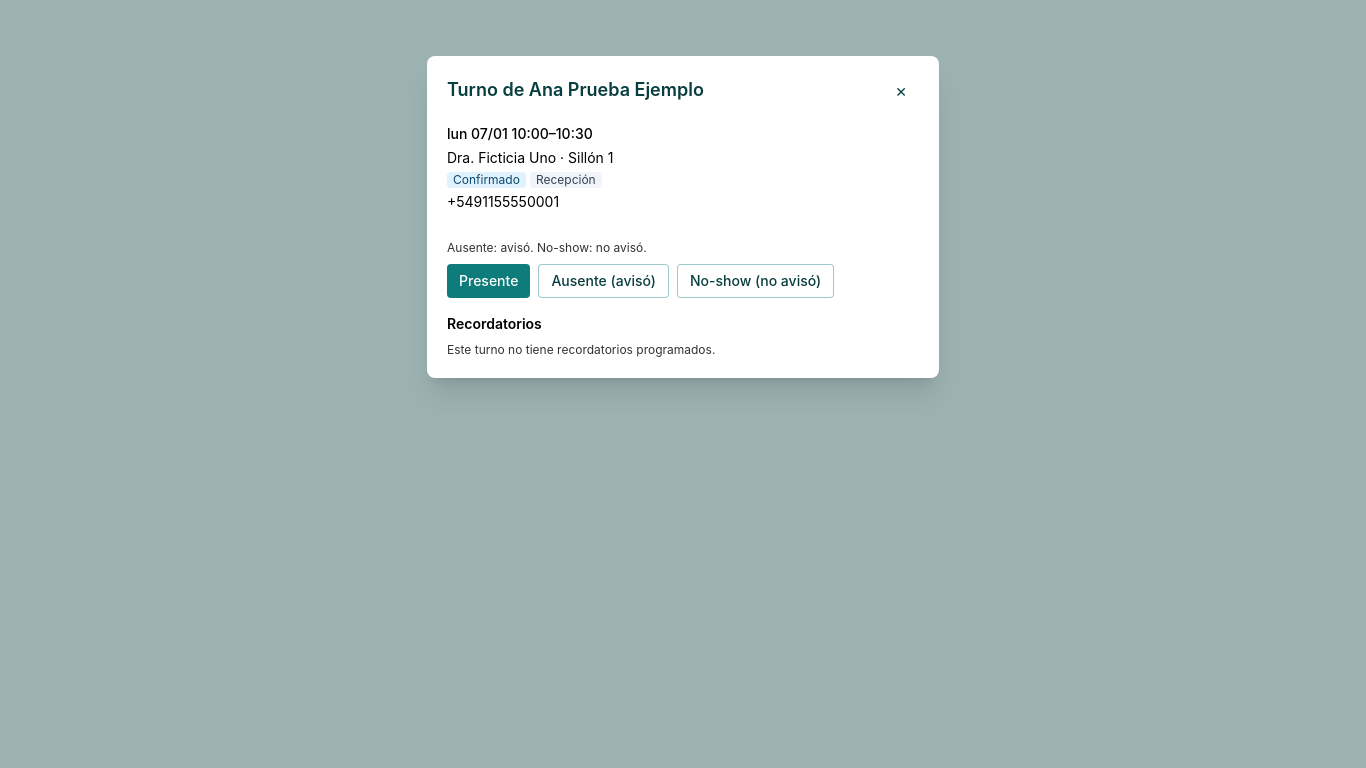
Test: AppointmentDetail sin conexión › un error de negocio no se encola y se muestra
The width and height of the screenshot is (1366, 768).
Click the button "Presente": coordinates (489, 281) [447, 264, 530, 298]
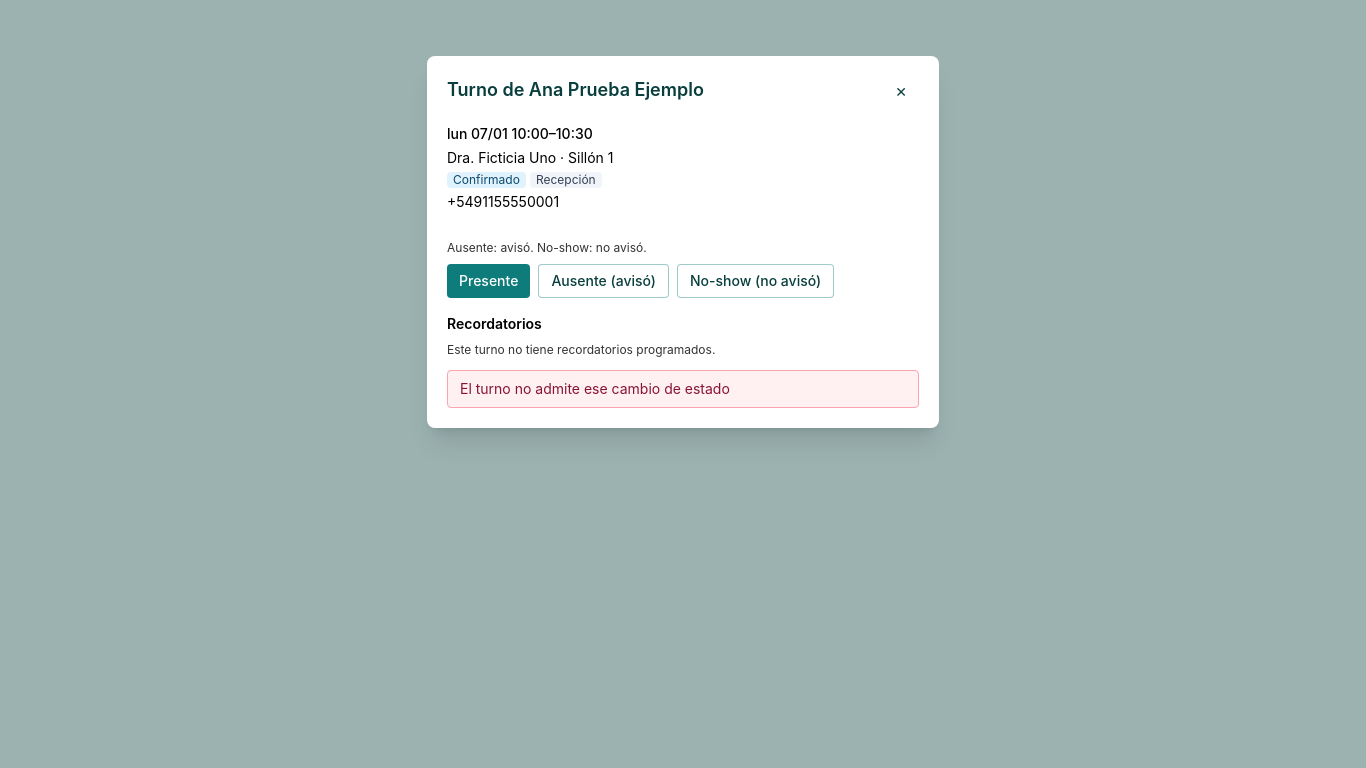
Check: the message reads "El turno no admite ese cambio de estado", box [460, 380, 730, 397]
